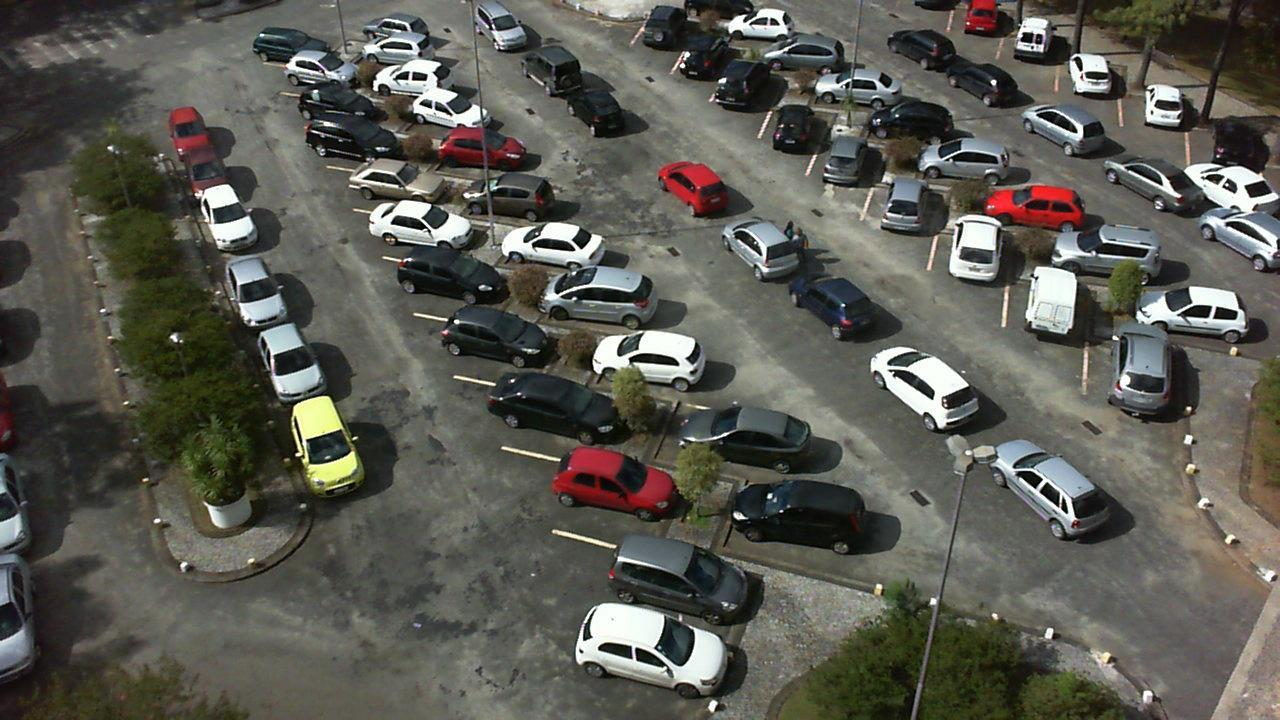occupied: (608, 526, 775, 654), (542, 439, 695, 539), (634, 397, 776, 485), (730, 478, 865, 570), (491, 366, 626, 456), (446, 304, 573, 386), (603, 324, 724, 402), (543, 264, 673, 334), (1139, 292, 1260, 362), (1083, 341, 1181, 421), (508, 216, 630, 277), (408, 252, 524, 316), (384, 198, 497, 263), (1065, 231, 1169, 296), (473, 167, 589, 225), (935, 223, 1013, 307), (1005, 271, 1085, 351), (992, 185, 1105, 240), (404, 88, 515, 143), (343, 156, 450, 211), (863, 183, 946, 253), (801, 137, 884, 205), (316, 113, 413, 169), (927, 140, 1028, 191), (629, 10, 703, 77), (760, 104, 832, 172), (445, 132, 544, 181), (819, 68, 916, 116), (670, 45, 745, 106), (709, 71, 784, 130), (301, 84, 393, 130), (1125, 83, 1184, 152), (867, 105, 955, 150), (278, 51, 364, 97), (349, 35, 438, 76), (732, 12, 821, 53), (383, 65, 472, 105), (1000, 18, 1064, 73), (1059, 49, 1120, 106), (778, 43, 857, 84)
